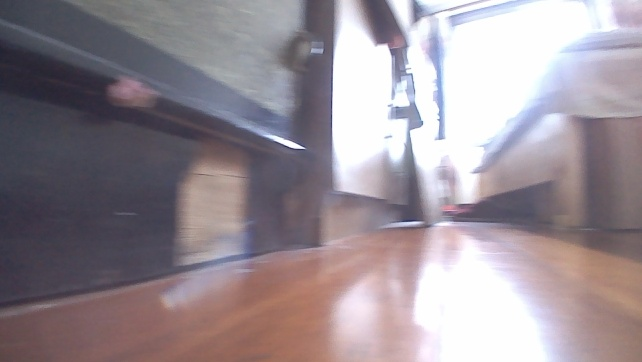bed1: (472, 25, 641, 230)
